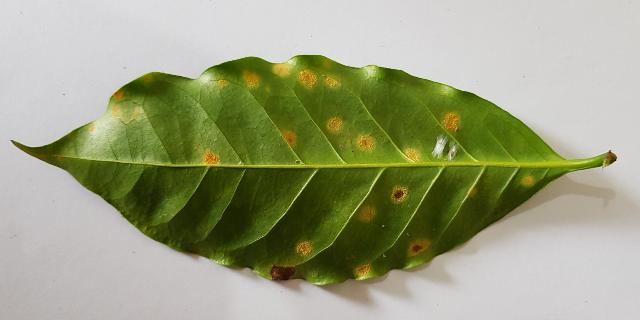cercospora: (298, 68, 317, 89), (270, 266, 295, 281), (408, 240, 430, 255), (443, 112, 459, 131), (272, 62, 290, 76), (358, 136, 375, 150), (327, 118, 342, 133), (392, 187, 407, 201), (203, 152, 218, 166), (243, 73, 259, 86), (282, 132, 296, 146), (355, 264, 371, 276), (297, 242, 311, 255), (109, 106, 122, 120), (324, 76, 340, 87), (361, 208, 375, 220), (405, 149, 419, 161), (111, 88, 122, 100), (522, 177, 532, 185), (218, 80, 226, 86), (143, 76, 151, 82), (90, 126, 93, 131), (470, 189, 474, 192), (133, 114, 137, 117), (58, 157, 61, 160), (42, 156, 44, 159), (19, 148, 21, 149), (352, 256, 353, 257)
